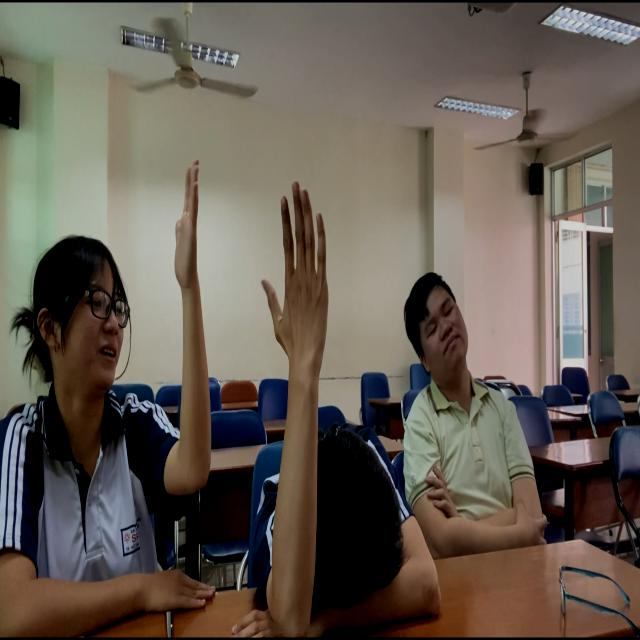raise_hand: (4, 117, 223, 640)
